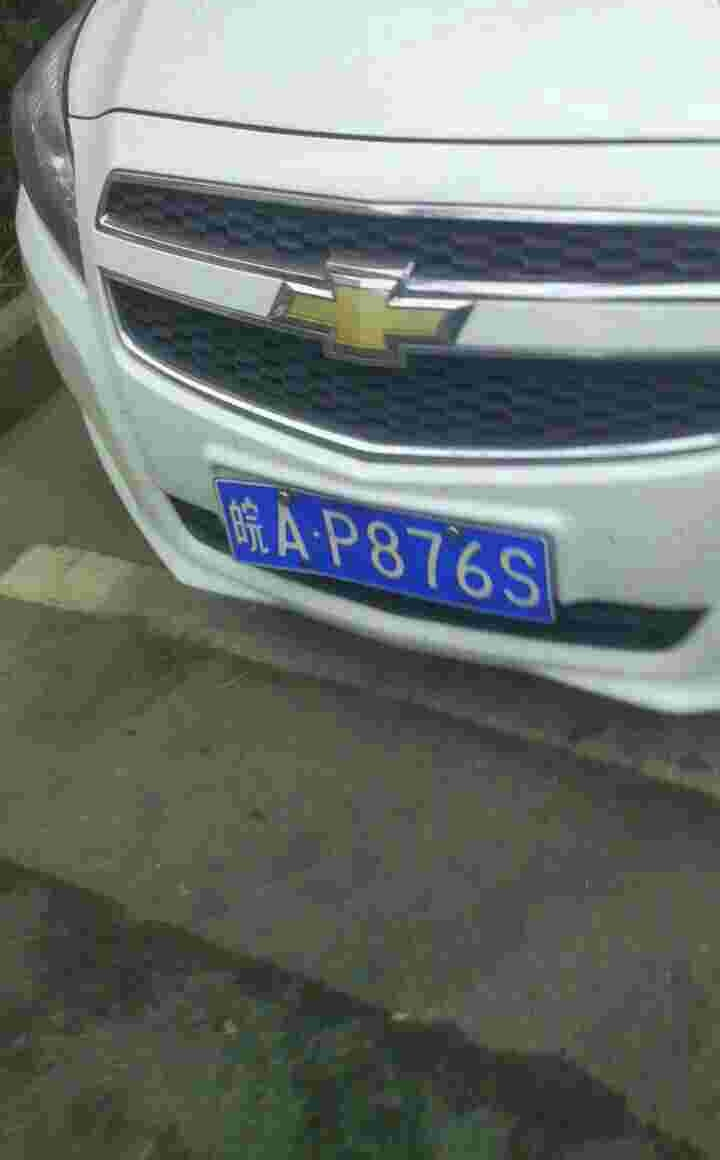license_plate: (209, 469, 561, 624)
